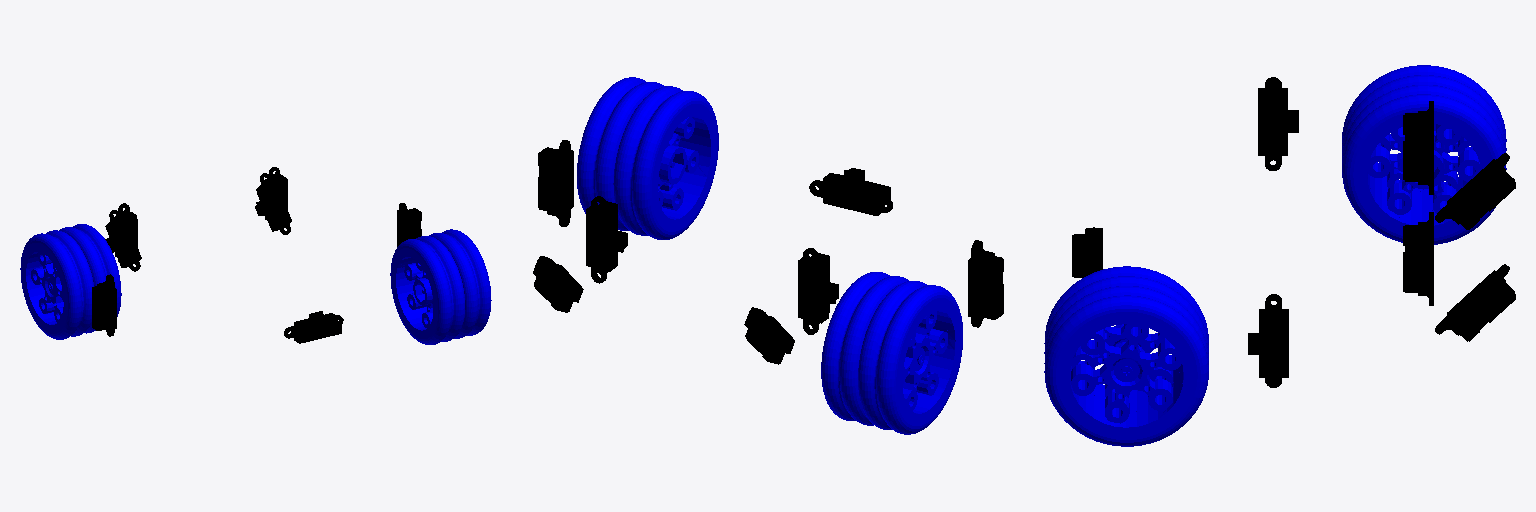
robot.urdf — display_arena:
<?xml version="1.0"?>
<robot
  name="display_arena">
  <link
    name="base_link">
    <inertial>
      <origin
        xyz="1.0217E-05 0.025072 -0.016355"
        rpy="0 0 0" />
      <mass
        value="2.6954" />
      <inertia
        ixx="0.0070446"
        ixy="-2.9178E-07"
        ixz="1.5967E-07"
        iyy="0.015528"
        iyz="-0.00099099"
        izz="0.010468" />
    </inertial>
    <visual>
      <origin
        xyz="0 0 0"
        rpy="0 0 0" />
      <geometry>
        <mesh filename="base_link.STL" />
      </geometry>
      <material
        name="">
        <color
          rgba="0.77647 0.75686 0.73725 1" />
      </material>
    </visual>
    <collision>
      <origin
        xyz="0 0 0"
        rpy="0 0 0" />
      <geometry>
        <mesh filename="base_link.STL" />
      </geometry>
    </collision>
  </link>
  <link
    name="RF_WheelLink">
    <inertial>
      <origin
        xyz="4.5981E-13 1.9621E-13 0.010198"
        rpy="0 0 0" />
      <mass
        value="0.12747" />
      <inertia
        ixx="5.5576E-05"
        ixy="1.1858E-20"
        ixz="-3.4786E-21"
        iyy="5.5576E-05"
        iyz="-2.8041E-20"
        izz="0.00010367" />
    </inertial>
    <visual>
      <origin
        xyz="0 0 0"
        rpy="0 0 0" />
      <geometry>
        <mesh filename="RF_WheelLink.STL" />
      </geometry>
      <material
        name="">
        <color
          rgba="0 0 1 1" />
      </material>
    </visual>
    <collision>
      <origin
        xyz="0 0 0"
        rpy="0 0 0" />
      <geometry>
        <mesh filename="RF_WheelLink.STL" />
      </geometry>
    </collision>
  </link>
  <joint
    name="RF_Wheel"
    type="continuous">
    <origin
      xyz="0.094 0.066353 0.017"
      rpy="1.5708 0.69155 1.5708" />
    <parent
      link="base_link" />
    <child
      link="RF_WheelLink" />
    <axis
      xyz="0 0 0" />
  </joint>
  <link
    name="RB_WheelLink">
    <inertial>
      <origin
        xyz="-0.020198 -3.3936E-13 7.0111E-14"
        rpy="0 0 0" />
      <mass
        value="0.12747" />
      <inertia
        ixx="0.00010367"
        ixy="1.3138E-20"
        ixz="-1.2278E-21"
        iyy="5.5576E-05"
        iyz="3.007E-20"
        izz="5.5576E-05" />
    </inertial>
    <visual>
      <origin
        xyz="0 0 0"
        rpy="0 0 0" />
      <geometry>
        <mesh filename="RB_WheelLink.STL" />
      </geometry>
      <material
        name="">
        <color
          rgba="0 0 1 1" />
      </material>
    </visual>
    <collision>
      <origin
        xyz="0 0 0"
        rpy="0 0 0" />
      <geometry>
        <mesh filename="RB_WheelLink.STL" />
      </geometry>
    </collision>
  </link>
  <joint
    name="RB_Wheel"
    type="continuous">
    <origin
      xyz="0.084 -0.063645 0.017"
      rpy="1.6466 0 3.1416" />
    <parent
      link="base_link" />
    <child
      link="RB_WheelLink" />
    <axis
      xyz="1 0 0" />
  </joint>
  <link
    name="LF_WheelLink">
    <inertial>
      <origin
        xyz="-0.020198 -7.1808E-11 2.8662E-12"
        rpy="0 0 0" />
      <mass
        value="0.12747" />
      <inertia
        ixx="0.00010367"
        ixy="1.8817E-20"
        ixz="1.5609E-20"
        iyy="5.5576E-05"
        iyz="-6.7763E-20"
        izz="5.5576E-05" />
    </inertial>
    <visual>
      <origin
        xyz="0 0 0"
        rpy="0 0 0" />
      <geometry>
        <mesh filename="LF_WheelLink.STL" />
      </geometry>
      <material
        name="">
        <color
          rgba="0 0 1 1" />
      </material>
    </visual>
    <collision>
      <origin
        xyz="0 0 0"
        rpy="0 0 0" />
      <geometry>
        <mesh filename="LF_WheelLink.STL" />
      </geometry>
    </collision>
  </link>
  <joint
    name="LF_Wheel"
    type="continuous">
    <origin
      xyz="-0.084 0.066353 0.017"
      rpy="0.75862 0 0" />
    <parent
      link="base_link" />
    <child
      link="LF_WheelLink" />
    <axis
      xyz="1 0 0" />
  </joint>
  <link
    name="LB_WheelLink">
    <inertial>
      <origin
        xyz="0 2.0817E-17 -0.0098022"
        rpy="0 0 0" />
      <mass
        value="0.12747" />
      <inertia
        ixx="5.5576E-05"
        ixy="1.0164E-20"
        ixz="-1.8434E-21"
        iyy="5.5576E-05"
        iyz="-1.1872E-20"
        izz="0.00010367" />
    </inertial>
    <visual>
      <origin
        xyz="0 0 0"
        rpy="0 0 0" />
      <geometry>
        <mesh filename="LB_WheelLink.STL" />
      </geometry>
      <material
        name="">
        <color
          rgba="0 0 1 1" />
      </material>
    </visual>
    <collision>
      <origin
        xyz="0 0 0"
        rpy="0 0 0" />
      <geometry>
        <mesh filename="LB_WheelLink.STL" />
      </geometry>
    </collision>
  </link>
  <joint
    name="LB_Wheel"
    type="continuous">
    <origin
      xyz="-0.114 -0.063645 0.017"
      rpy="1.5708 0.23741 -1.5708" />
    <parent
      link="base_link" />
    <child
      link="LB_WheelLink" />
    <axis
      xyz="0 0 0" />
  </joint>
  <link
    name="L_Range_Link">
    <inertial>
      <origin
        xyz="-2.0351E-05 -0.00018838 0.0053807"
        rpy="0 0 0" />
      <mass
        value="0.0042661" />
      <inertia
        ixx="1.08E-07"
        ixy="1.6467E-11"
        ixz="6.311E-10"
        iyy="4.0797E-07"
        iyz="-1.0722E-10"
        izz="4.0735E-07" />
    </inertial>
    <visual>
      <origin
        xyz="0 0 0"
        rpy="0 0 0" />
      <geometry>
        <mesh filename="L_Range_Link.STL" />
      </geometry>
      <material
        name="">
        <color
          rgba="0 0 0 1" />
      </material>
    </visual>
    <collision>
      <origin
        xyz="0 0 0"
        rpy="0 0 0" />
      <geometry>
        <mesh filename="L_Range_Link.STL" />
      </geometry>
    </collision>
  </link>
  <joint
    name="L_Range"
    type="fixed">
    <origin
      xyz="-0.111 0.0003163 0.028237"
      rpy="3.1416 1.5708 0" />
    <parent
      link="base_link" />
    <child
      link="L_Range_Link" />
    <axis
      xyz="0 0 0" />
  </joint>
  <link
    name="R_Range_Link">
    <inertial>
      <origin
        xyz="-2.0351E-05 -0.00018838 0.0053807"
        rpy="0 0 0" />
      <mass
        value="0.0042661" />
      <inertia
        ixx="1.08E-07"
        ixy="1.6467E-11"
        ixz="6.311E-10"
        iyy="4.0797E-07"
        iyz="-1.0722E-10"
        izz="4.0735E-07" />
    </inertial>
    <visual>
      <origin
        xyz="0 0 0"
        rpy="0 0 0" />
      <geometry>
        <mesh filename="R_Range_Link.STL" />
      </geometry>
      <material
        name="">
        <color
          rgba="0 0 0 1" />
      </material>
    </visual>
    <collision>
      <origin
        xyz="0 0 0"
        rpy="0 0 0" />
      <geometry>
        <mesh filename="R_Range_Link.STL" />
      </geometry>
    </collision>
  </link>
  <joint
    name="R_Range"
    type="fixed">
    <origin
      xyz="0.111 0.00064079 0.028237"
      rpy="0 1.5708 0" />
    <parent
      link="base_link" />
    <child
      link="R_Range_Link" />
    <axis
      xyz="0 0 0" />
  </joint>
  <link
    name="B_Range_Link">
    <inertial>
      <origin
        xyz="-2.0351E-05 -0.00018838 0.0053807"
        rpy="0 0 0" />
      <mass
        value="0.0042661" />
      <inertia
        ixx="1.08E-07"
        ixy="1.6467E-11"
        ixz="6.311E-10"
        iyy="4.0797E-07"
        iyz="-1.0722E-10"
        izz="4.0735E-07" />
    </inertial>
    <visual>
      <origin
        xyz="0 0 0"
        rpy="0 0 0" />
      <geometry>
        <mesh filename="B_Range_Link.STL" />
      </geometry>
      <material
        name="">
        <color
          rgba="0 0 0 1" />
      </material>
    </visual>
    <collision>
      <origin
        xyz="0 0 0"
        rpy="0 0 0" />
      <geometry>
        <mesh filename="B_Range_Link.STL" />
      </geometry>
    </collision>
  </link>
  <joint
    name="B_Range"
    type="fixed">
    <origin
      xyz="0 -0.074061 0.017"
      rpy="-1.5708 0 -3.1416" />
    <parent
      link="base_link" />
    <child
      link="B_Range_Link" />
    <axis
      xyz="0 0 0" />
  </joint>
  <link
    name="FL_Range_Link">
    <inertial>
      <origin
        xyz="-2.0351E-05 -0.00018838 0.0053807"
        rpy="0 0 0" />
      <mass
        value="0.0042661" />
      <inertia
        ixx="1.08E-07"
        ixy="1.6467E-11"
        ixz="6.311E-10"
        iyy="4.0797E-07"
        iyz="-1.0722E-10"
        izz="4.0735E-07" />
    </inertial>
    <visual>
      <origin
        xyz="0 0 0"
        rpy="0 0 0" />
      <geometry>
        <mesh filename="FL_Range_Link.STL" />
      </geometry>
      <material
        name="">
        <color
          rgba="0 0 0 1" />
      </material>
    </visual>
    <collision>
      <origin
        xyz="0 0 0"
        rpy="0 0 0" />
      <geometry>
        <mesh filename="FL_Range_Link.STL" />
      </geometry>
    </collision>
  </link>
  <joint
    name="FL_Range"
    type="fixed">
    <origin
      xyz="-0.061592 0.070694 0.0405"
      rpy="1.5708 1.5708 0" />
    <parent
      link="base_link" />
    <child
      link="FL_Range_Link" />
    <axis
      xyz="0 0 0" />
  </joint>
  <link
    name="FR_Range_Link">
    <inertial>
      <origin
        xyz="-2.0351E-05 -0.00018838 0.0053807"
        rpy="0 0 0" />
      <mass
        value="0.0042661" />
      <inertia
        ixx="1.08E-07"
        ixy="1.6467E-11"
        ixz="6.311E-10"
        iyy="4.0797E-07"
        iyz="-1.0722E-10"
        izz="4.0735E-07" />
    </inertial>
    <visual>
      <origin
        xyz="0 0 0"
        rpy="0 0 0" />
      <geometry>
        <mesh filename="FR_Range_Link.STL" />
      </geometry>
      <material
        name="">
        <color
          rgba="0 0 0 1" />
      </material>
    </visual>
    <collision>
      <origin
        xyz="0 0 0"
        rpy="0 0 0" />
      <geometry>
        <mesh filename="FR_Range_Link.STL" />
      </geometry>
    </collision>
  </link>
  <joint
    name="FR_Range"
    type="fixed">
    <origin
      xyz="0.0535 0.070694 0.0405"
      rpy="1.5708 1.5708 0" />
    <parent
      link="base_link" />
    <child
      link="FR_Range_Link" />
    <axis
      xyz="0 0 0" />
  </joint>
  <link
    name="DL_Range_Link">
    <inertial>
      <origin
        xyz="-2.0351E-05 -0.00018838 0.0053807"
        rpy="0 0 0" />
      <mass
        value="0.0042661" />
      <inertia
        ixx="1.08E-07"
        ixy="1.6467E-11"
        ixz="6.311E-10"
        iyy="4.0797E-07"
        iyz="-1.0722E-10"
        izz="4.0735E-07" />
    </inertial>
    <visual>
      <origin
        xyz="0 0 0"
        rpy="0 0 0" />
      <geometry>
        <mesh filename="DL_Range_Link.STL" />
      </geometry>
      <material
        name="">
        <color
          rgba="0 0 0 1" />
      </material>
    </visual>
    <collision>
      <origin
        xyz="0 0 0"
        rpy="0 0 0" />
      <geometry>
        <mesh filename="DL_Range_Link.STL" />
      </geometry>
    </collision>
  </link>
  <joint
    name="DL_Range"
    type="fixed">
    <origin
      xyz="-0.050592 0.086604 0.02691"
      rpy="3.1416 -0.7854 1.5708" />
    <parent
      link="base_link" />
    <child
      link="DL_Range_Link" />
    <axis
      xyz="0 0 0" />
  </joint>
  <link
    name="DR_Range_Link">
    <inertial>
      <origin
        xyz="0 0 0"
        rpy="0 0 0" />
      <mass
        value="0" />
      <inertia
        ixx="0"
        ixy="0"
        ixz="0"
        iyy="0"
        iyz="0"
        izz="0" />
    </inertial>
    <visual>
      <origin
        xyz="0 0 0"
        rpy="0 0 0" />
      <geometry>
        <mesh filename="DR_Range_Link.STL" />
      </geometry>
      <material
        name="">
        <color
          rgba="0 0 0 1" />
      </material>
    </visual>
    <collision>
      <origin
        xyz="0 0 0"
        rpy="0 0 0" />
      <geometry>
        <mesh filename="DR_Range_Link.STL" />
      </geometry>
    </collision>
  </link>
  <joint
    name="DR_Range"
    type="fixed">
    <origin
      xyz="0.0645 0.086604 0.02691"
      rpy="-3.1416 -0.7854 1.5708" />
    <parent
      link="base_link" />
    <child
      link="DR_Range_Link" />
    <axis
      xyz="0 0 0" />
  </joint>
</robot>

--- Render facts (derived) ---
Views: 3 orthographic renders of the robot side by side, from view 1: azimuth 30°, elevation 25°; view 2: azimuth 150°, elevation 25°; view 3: azimuth 270°, elevation 25°.
Robot: display_arena — 12 links, 11 joints (4 continuous, 7 fixed); root link base_link; default pose: all joints at 0.
Links seen in each view (by area): view 1: RB_WheelLink, LF_WheelLink, FL_Range_Link, L_Range_Link, FR_Range_Link, B_Range_Link, R_Range_Link; view 2: LF_WheelLink, RB_WheelLink, FR_Range_Link, L_Range_Link, R_Range_Link, B_Range_Link, FL_Range_Link, DL_Range_Link, DR_Range_Link; view 3: RB_WheelLink, LF_WheelLink, DL_Range_Link, DR_Range_Link, R_Range_Link, L_Range_Link, FL_Range_Link, FR_Range_Link, B_Range_Link.
Link boxes in pixels (bbox=[...]): RB_WheelLink: bbox=[390, 229, 491, 344]; LF_WheelLink: bbox=[20, 224, 121, 339]; FL_Range_Link: bbox=[111, 203, 137, 265]; L_Range_Link: bbox=[92, 274, 116, 336]; FR_Range_Link: bbox=[261, 167, 287, 228]; B_Range_Link: bbox=[284, 311, 343, 343]; R_Range_Link: bbox=[397, 203, 421, 246]; LF_WheelLink: bbox=[821, 272, 962, 434]; RB_WheelLink: bbox=[577, 77, 718, 239]; FR_Range_Link: bbox=[586, 196, 627, 283]; L_Range_Link: bbox=[968, 240, 1003, 327]; R_Range_Link: bbox=[538, 140, 573, 226]; B_Range_Link: bbox=[809, 168, 892, 215]; FL_Range_Link: bbox=[798, 248, 838, 334]; DL_Range_Link: bbox=[744, 307, 794, 364]; DR_Range_Link: bbox=[533, 256, 583, 312]; RB_WheelLink: bbox=[1044, 266, 1208, 446]; LF_WheelLink: bbox=[1342, 65, 1506, 244]; DL_Range_Link: bbox=[1435, 153, 1515, 229]; DR_Range_Link: bbox=[1435, 264, 1515, 341]; R_Range_Link: bbox=[1248, 294, 1288, 387]; L_Range_Link: bbox=[1258, 77, 1298, 170]; FL_Range_Link: bbox=[1403, 101, 1433, 194]; FR_Range_Link: bbox=[1403, 212, 1433, 305]; B_Range_Link: bbox=[1072, 227, 1102, 277].
Bounding box of the posed robot: 0.249 × 0.2058 × 0.0816 m (x, y, z).
Meshes: 12 distinct files referenced, 9 mesh visuals loaded (9 binary STL); not drawn: 3 (reference not matched to a file when rendering).